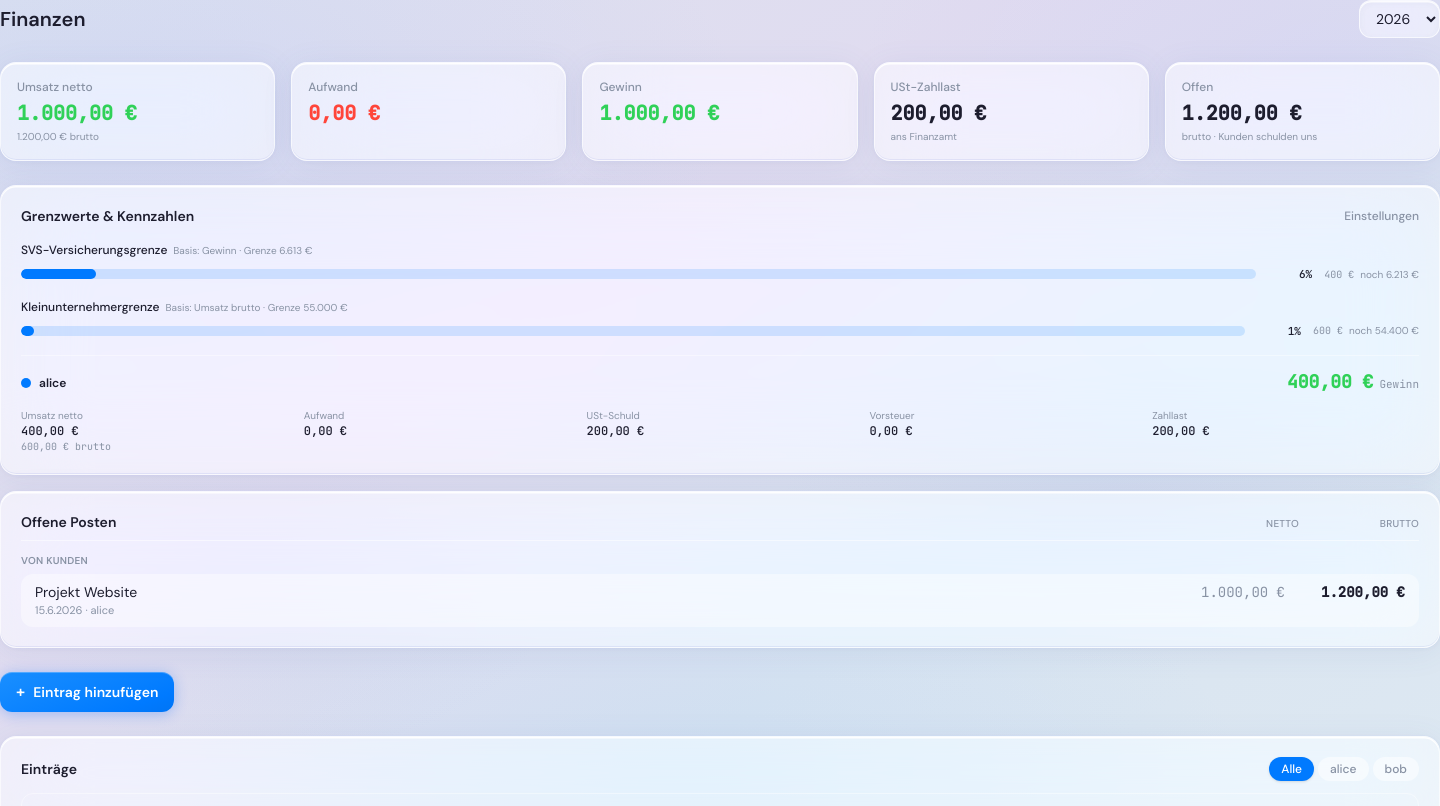
Scenario: FinancePage › schlägt nach dem Umschalten auf Netto die USt auf
Click the button "+ Eintrag hinzufügen" at x=87, y=692, box [0,672,174,712]
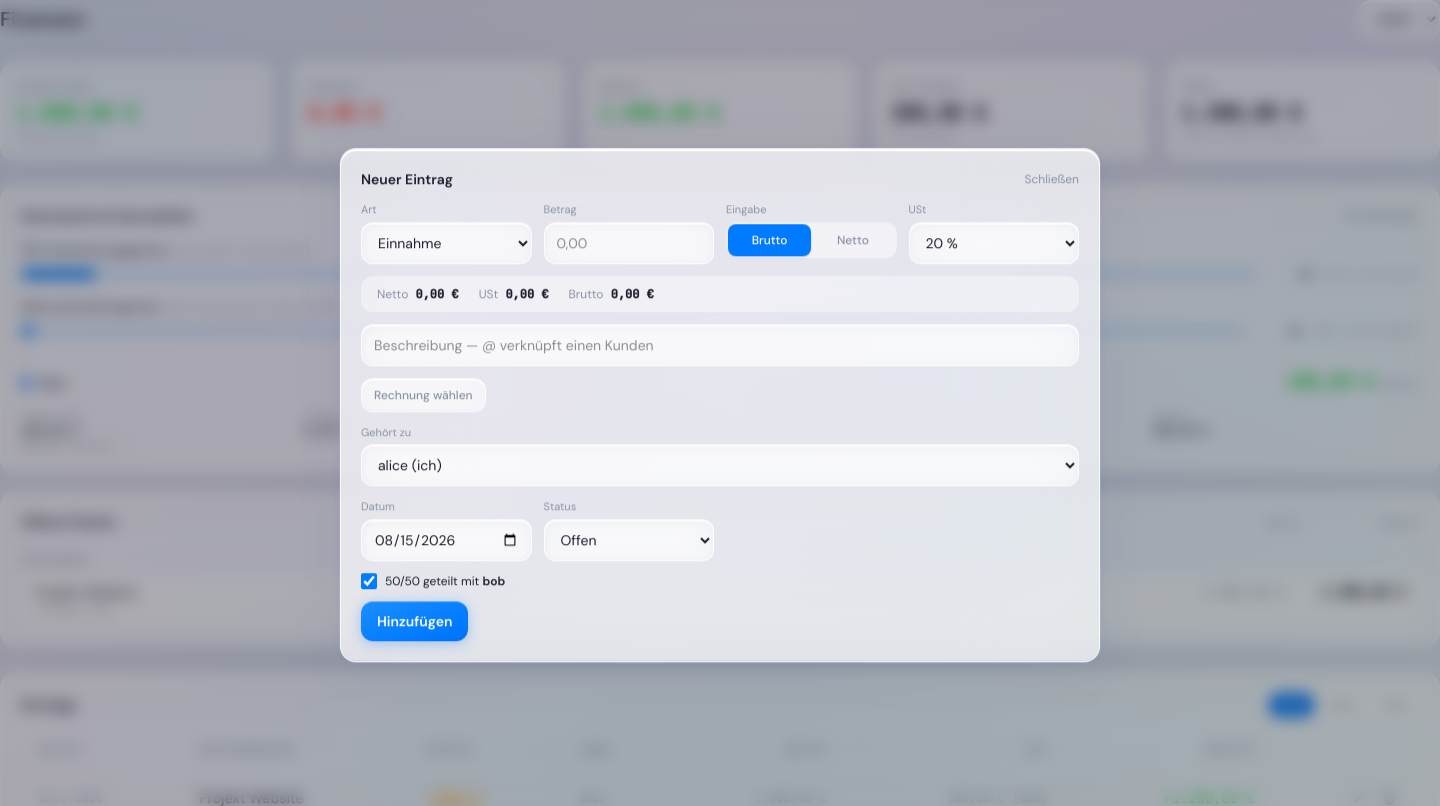
Check: the number field labelled "Betrag" is shown, box [544,222,714,264]
Click the checkbox labelled "50/50 geteilt mit bob" at x=369, y=581, box [361,573,377,589]
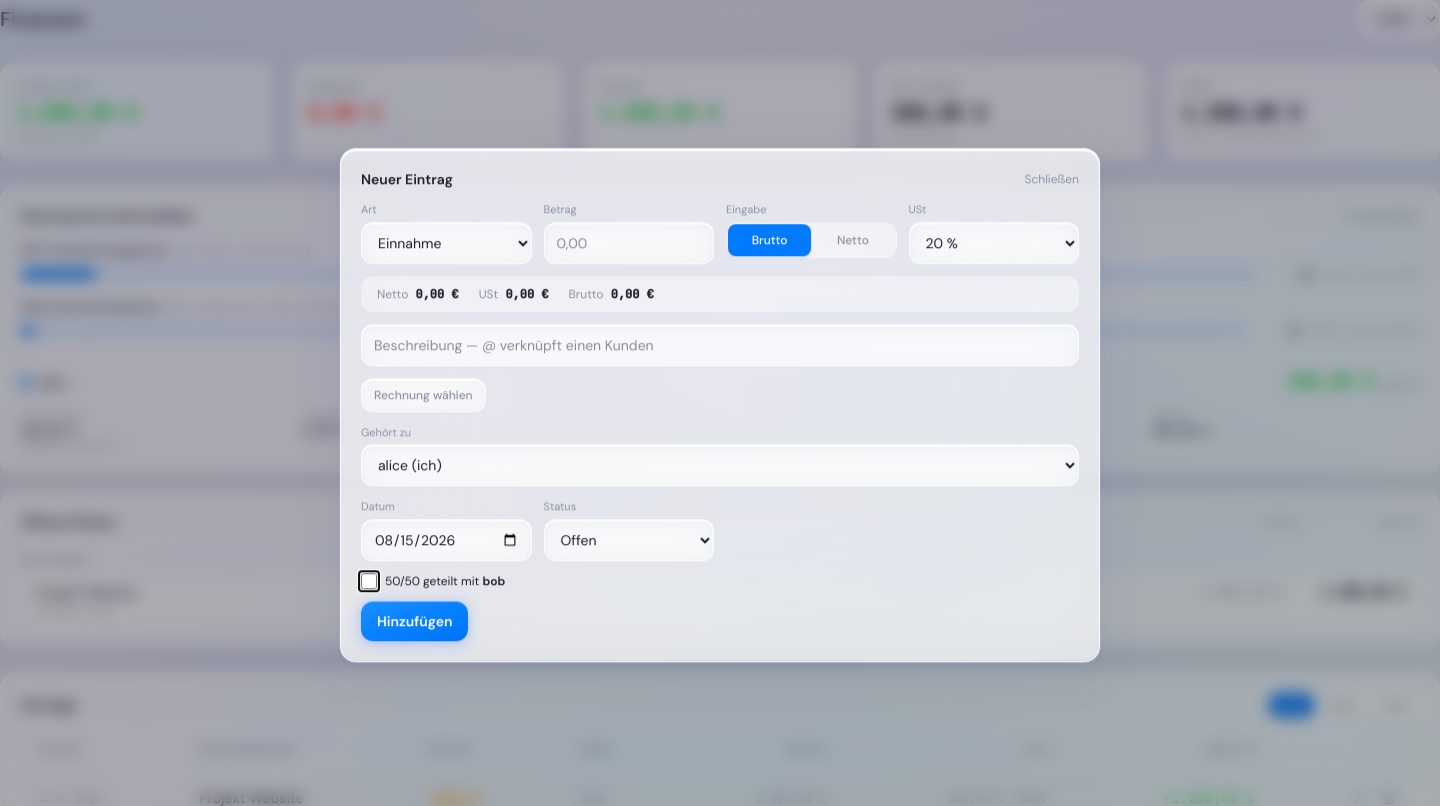
Type "100" into the number field labelled "Betrag" at x=629, y=243, box [544,222,714,264]
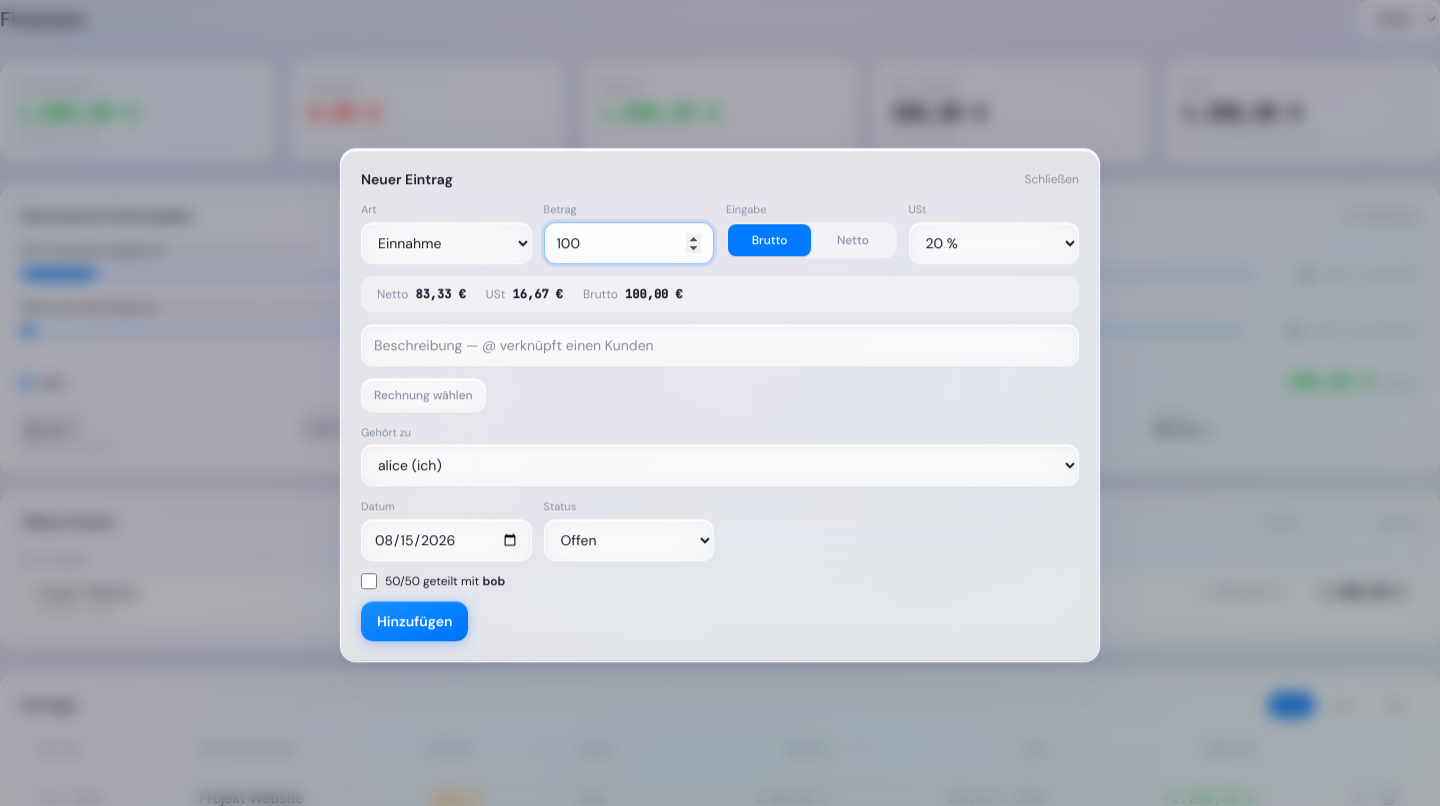
Click the button "Netto" at x=853, y=240, box [811,224,895,256]
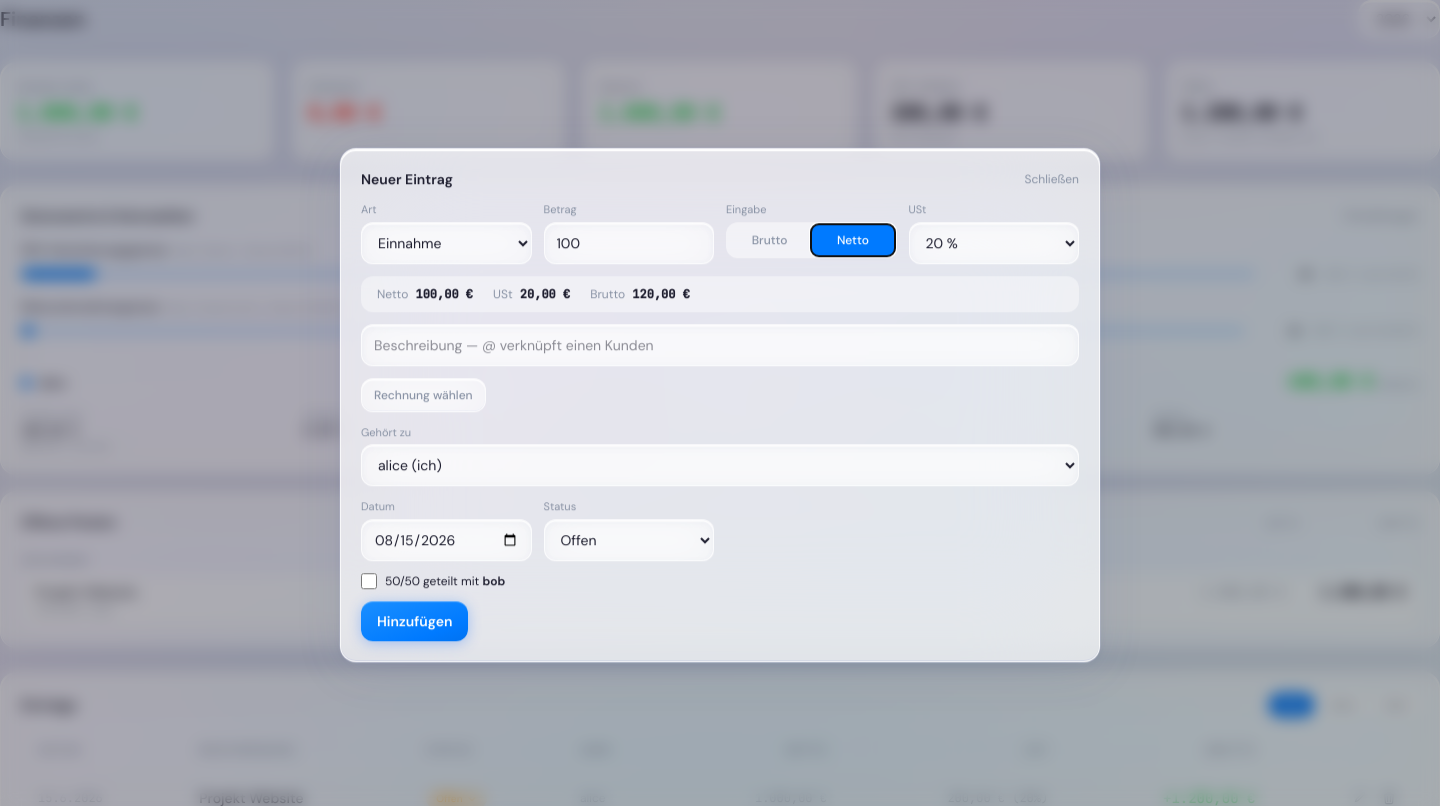
Check: the text "120,00 €" is shown, box [632,286,690,302]
